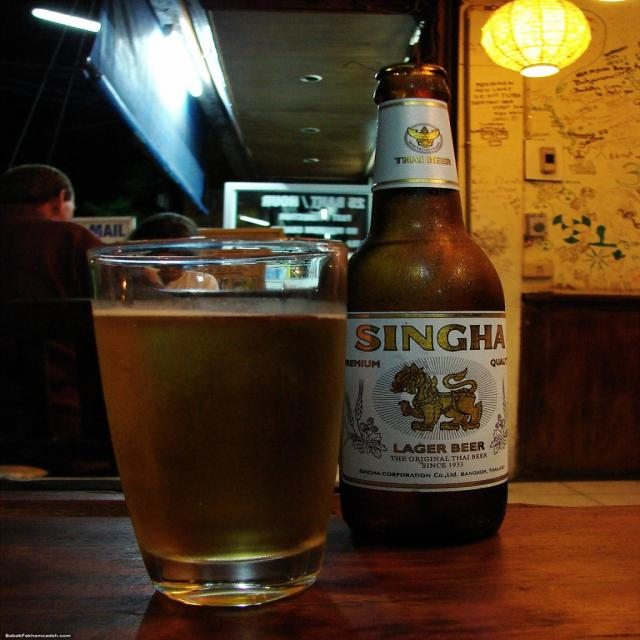singha: (342, 313, 509, 490)
